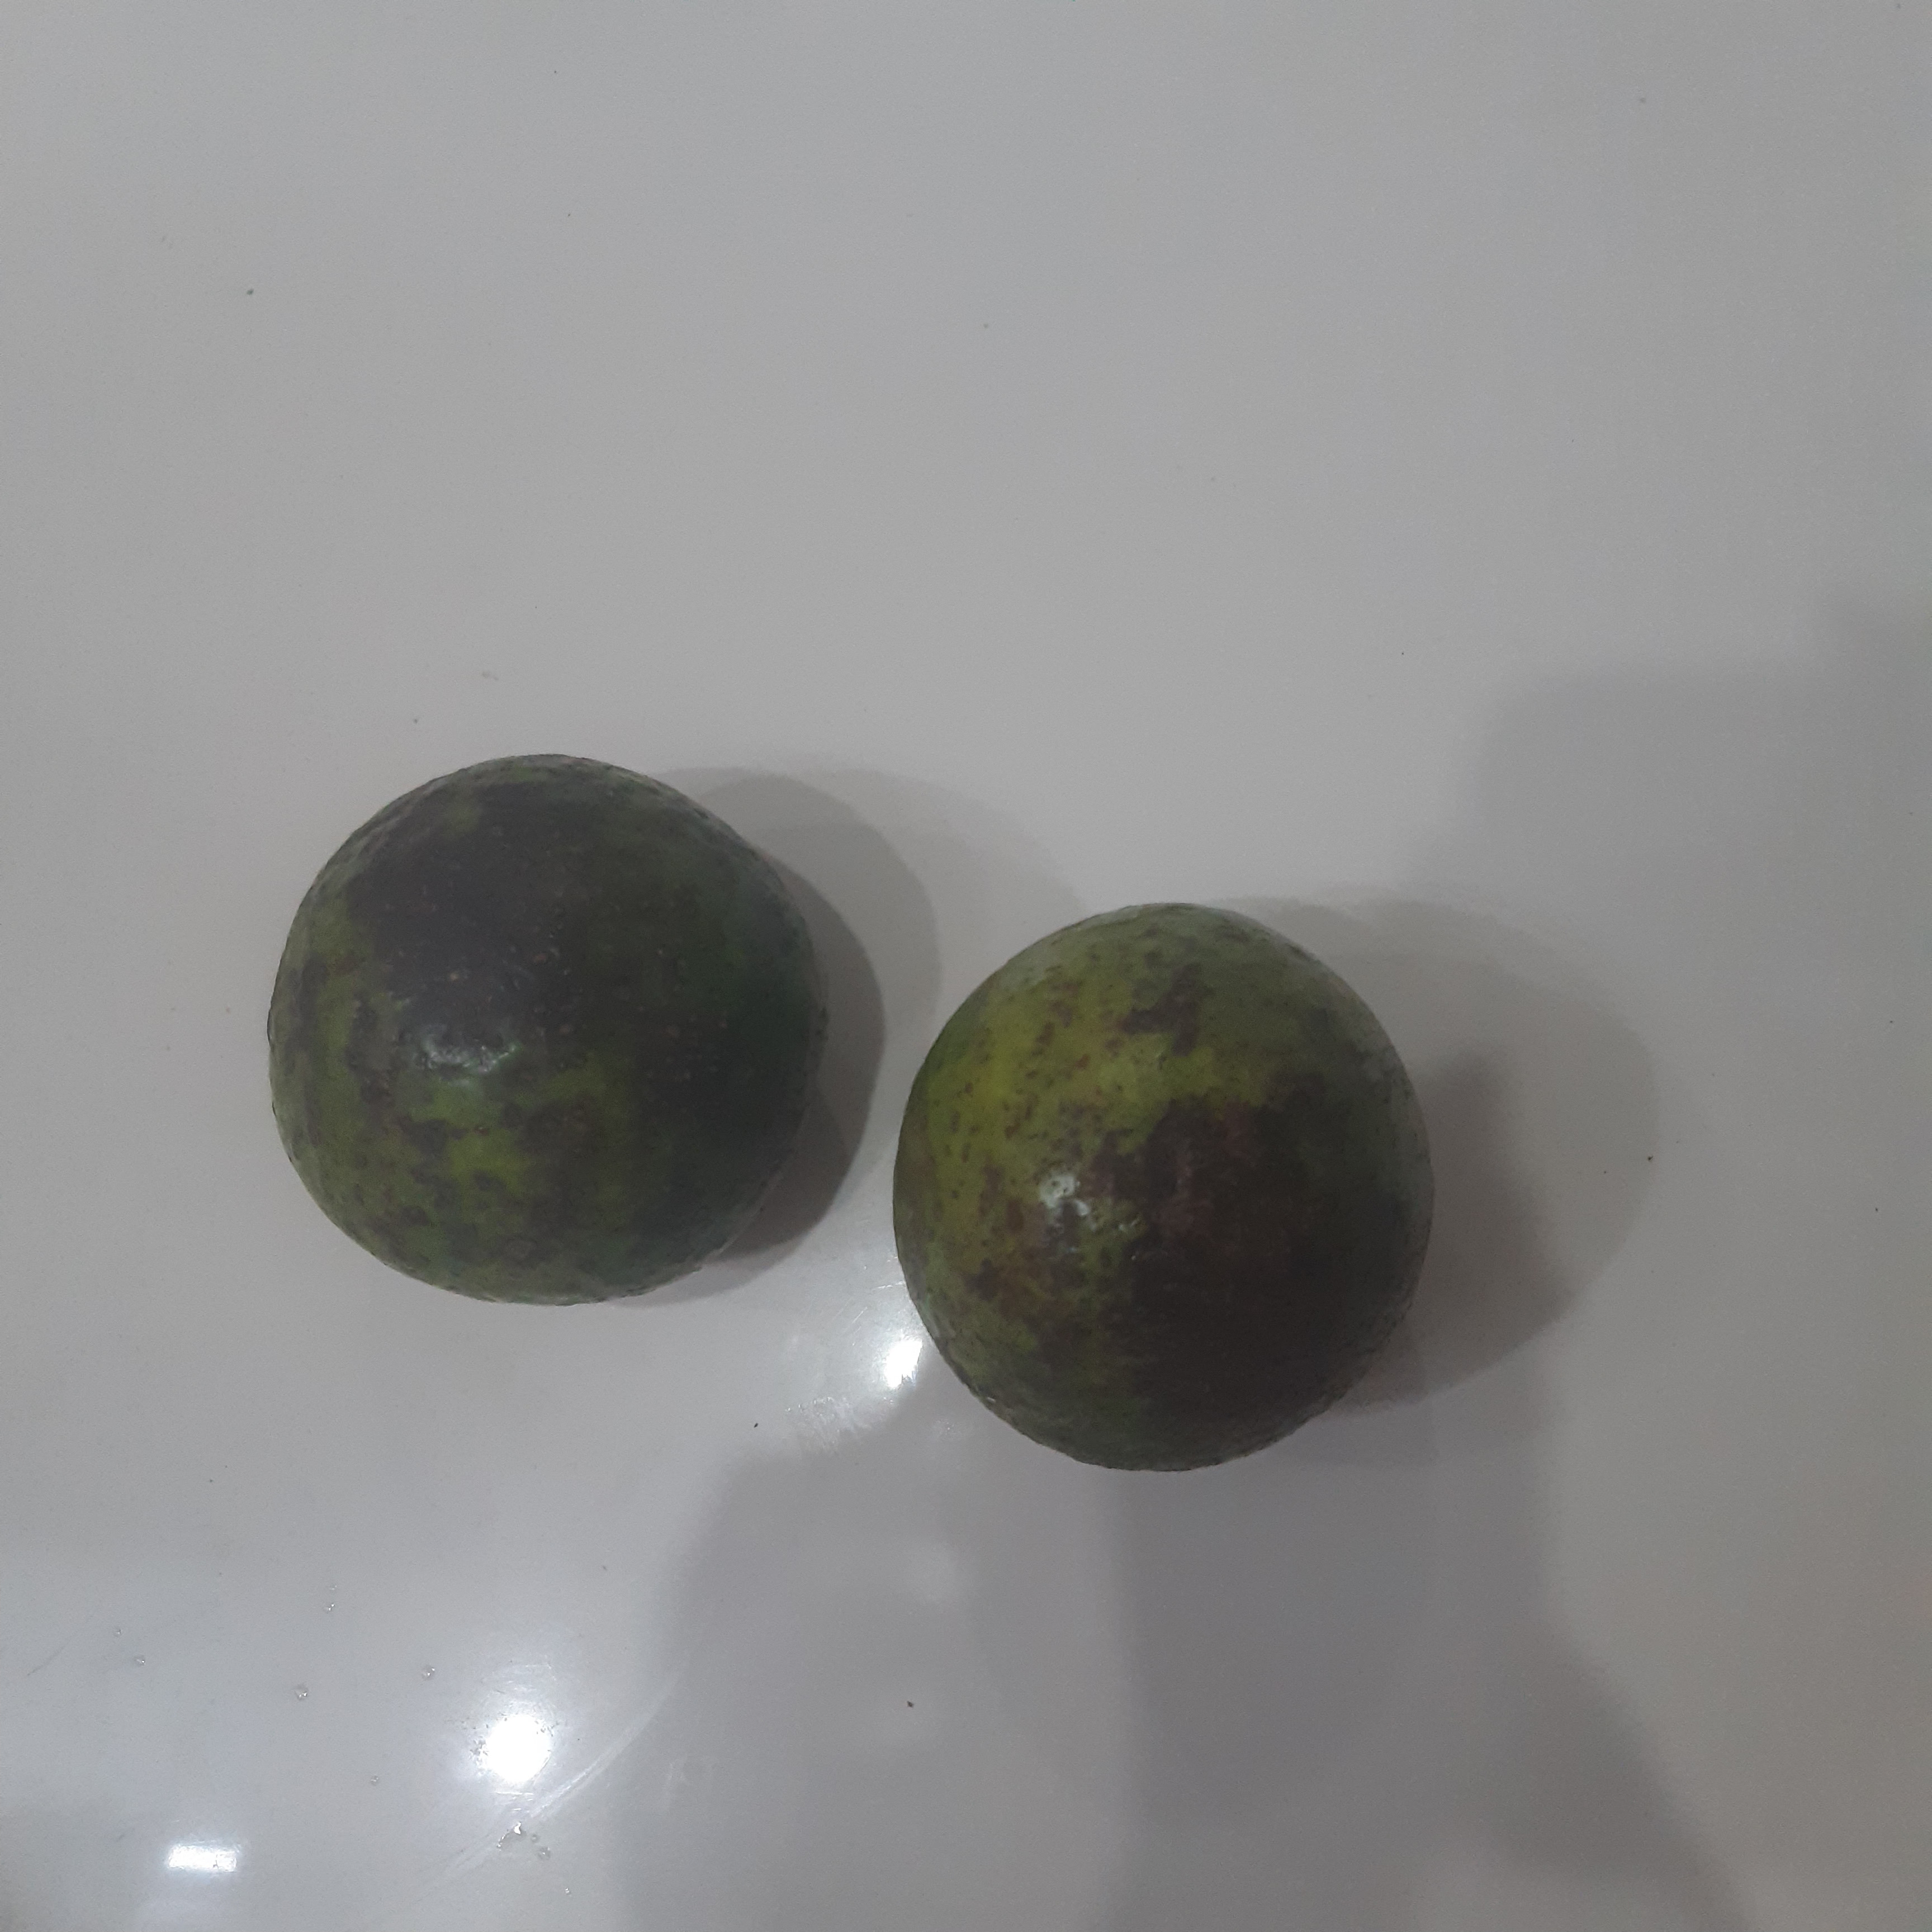Bo: (892, 899, 1434, 1475), (268, 754, 832, 1306)
